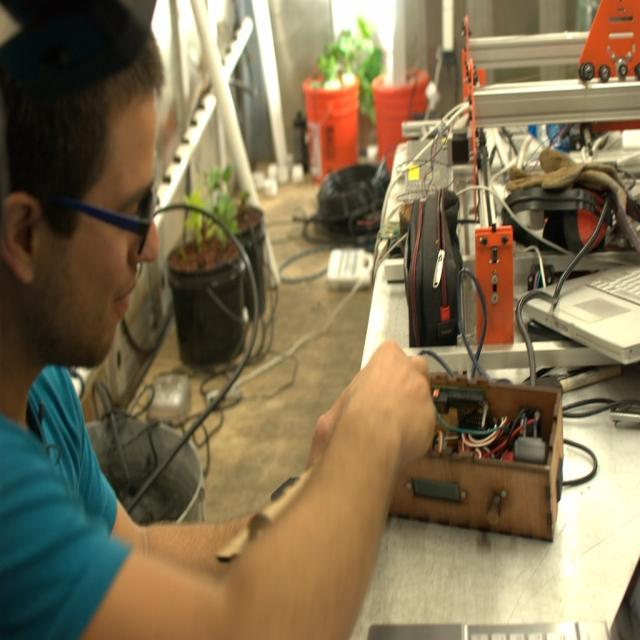Cable: (167, 140, 362, 482)
E-waste: (399, 26, 640, 530)
